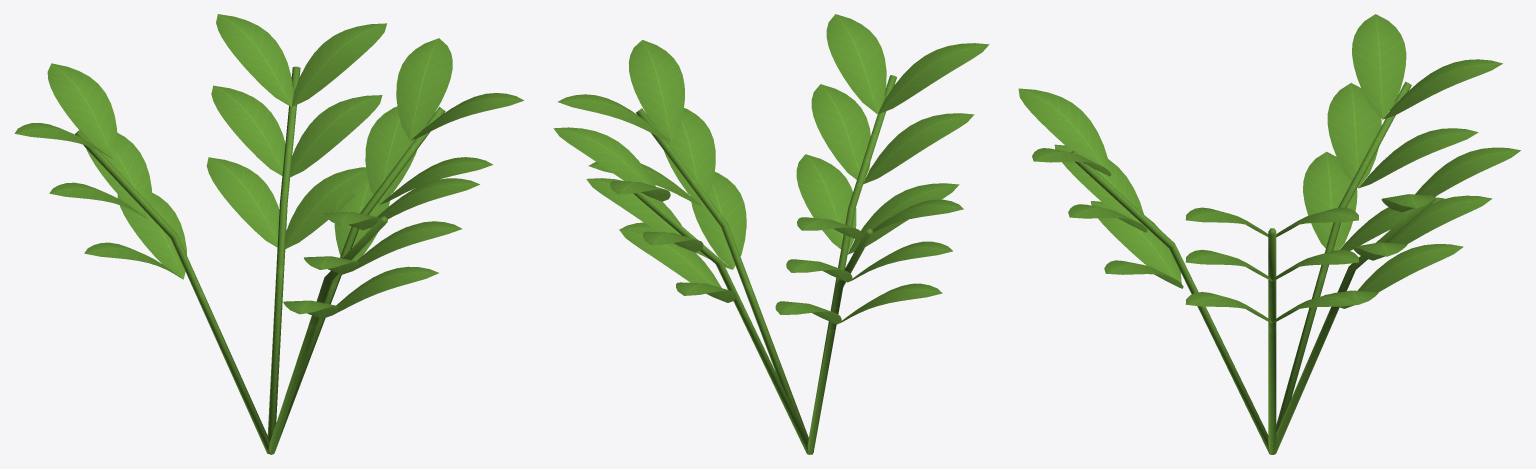
File: crop-carrot-growing.glb
3 views of the same model, side by side, from view 1: azimuth 30°, elevation 25°; view 2: azimuth 150°, elevation 25°; view 3: azimuth 270°, elevation 25° (orthographic).
Visible parts, largest first — view 1: crop_carrot_growing; view 2: crop_carrot_growing; view 3: crop_carrot_growing.
Part boxes in pixels (box(x1,y1,x2,y2)): crop_carrot_growing: box(14, 14, 523, 454); crop_carrot_growing: box(553, 14, 989, 454); crop_carrot_growing: box(1018, 14, 1520, 454).
Size of the model in its own units: 0.485 by 0.3699 by 0.4995.
1 material, 1 textured.
